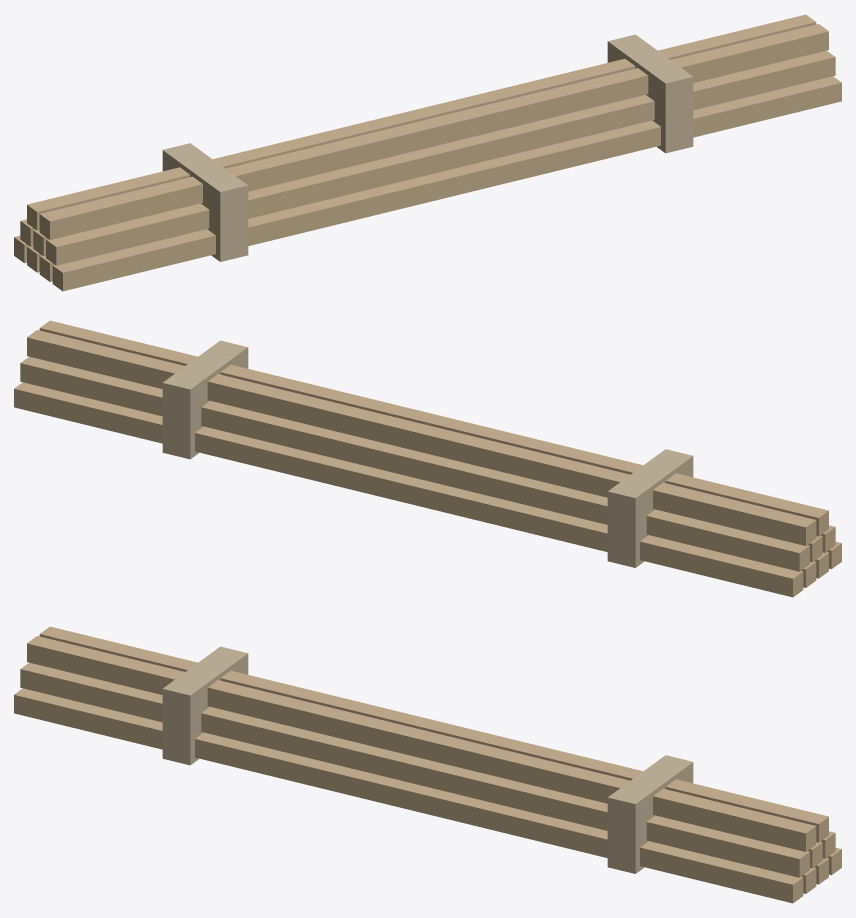
The model's file is prop-spar-bundle.fbx.
3 views of the same model, one above another, from view 1: azimuth 30°, elevation 25°; view 2: azimuth 150°, elevation 25°; view 3: azimuth 330°, elevation 25° (orthographic).
Visible parts, largest first — view 1: prop-spar-bundle; view 2: prop-spar-bundle; view 3: prop-spar-bundle.
Part boxes in pixels (<box>): prop-spar-bundle: <box>14,14,841,291</box>; prop-spar-bundle: <box>14,320,841,597</box>; prop-spar-bundle: <box>14,626,841,903</box>.
Bounding box in the file's own units: 70 × 6 × 9.
